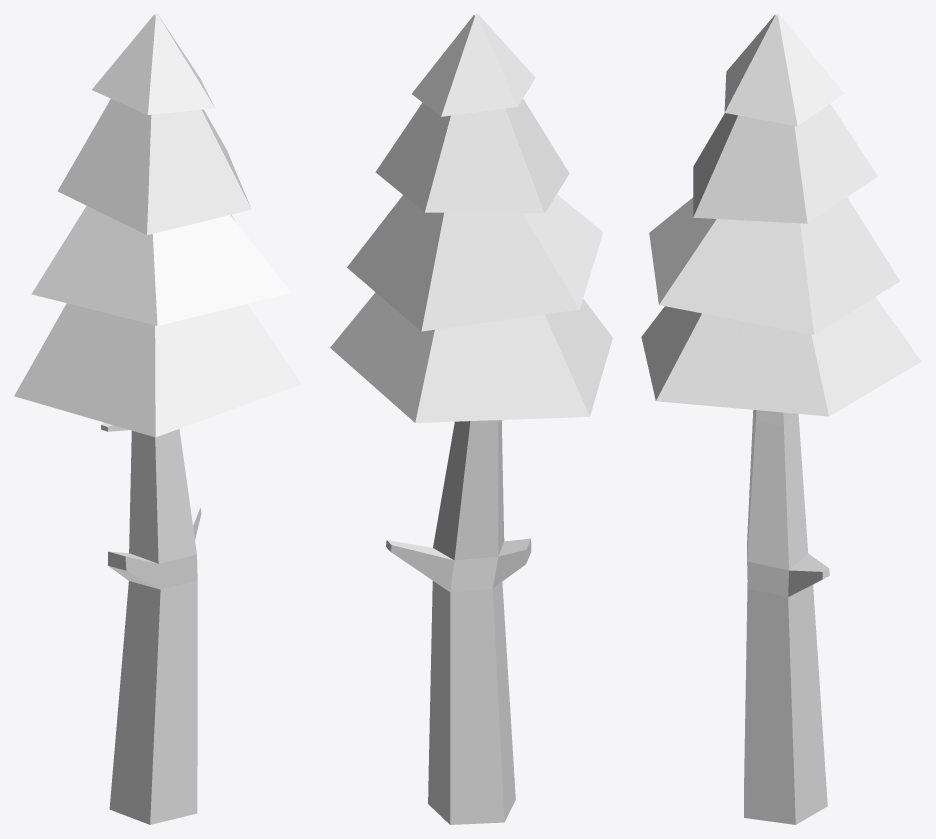
The model's file is tree.sequoia.tallest.details.glb.
3 views of the same model, side by side, from view 1: azimuth 30°, elevation 25°; view 2: azimuth 150°, elevation 25°; view 3: azimuth 270°, elevation 25° (orthographic).
Parts seen in each view (by area): view 1: sequoia.tallest.details; view 2: sequoia.tallest.details; view 3: sequoia.tallest.details.
Boxes of the visible parts, bbox=[...] form: sequoia.tallest.details: bbox=[14, 14, 301, 824]; sequoia.tallest.details: bbox=[330, 14, 612, 824]; sequoia.tallest.details: bbox=[641, 14, 921, 824].
Size of the model in its own units: 3.27 by 9.95 by 3.2.
1 material, 1 textured.
